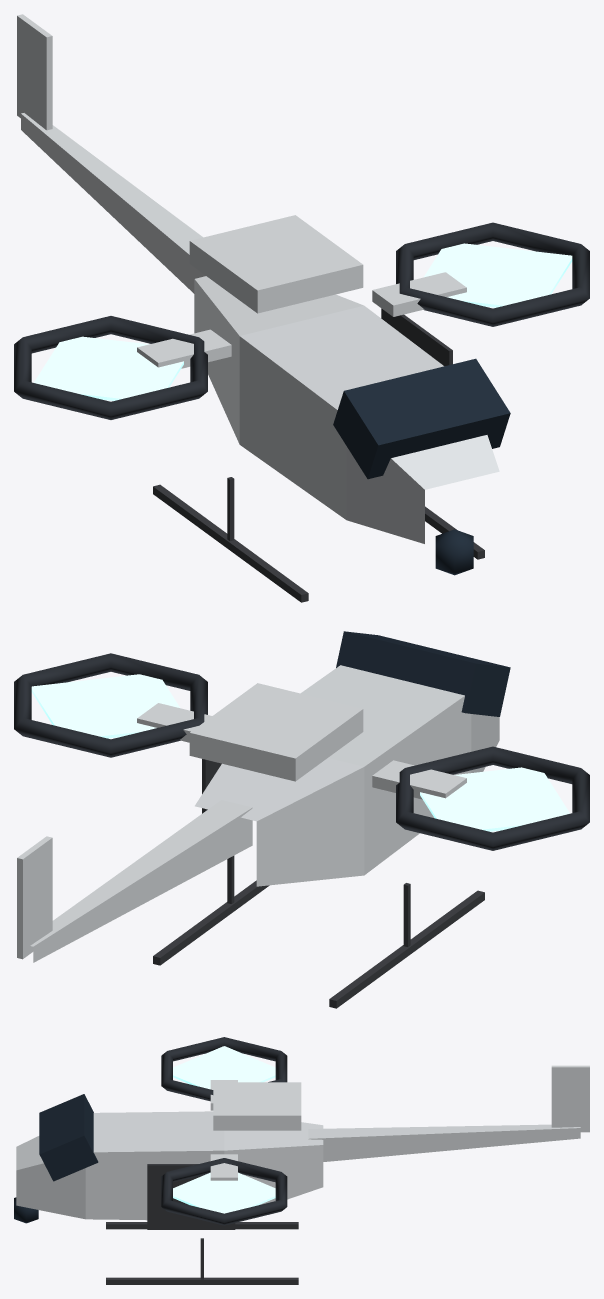
Rendered from veh_air_heli_transport_a09_lod2.glb.
The picture shows the model from 3 angles, top to bottom: view 1: azimuth 30°, elevation 25°; view 2: azimuth 150°, elevation 25°; view 3: azimuth 270°, elevation 25°; orthographic projection. The views are drawn at different scales.
Parts seen in each view (by area): view 1: body, rotor_l, rotor_r, door; view 2: body, rotor_l, rotor_r; view 3: body, rotor_l, rotor_r, door.
Boxes of the visible parts, left/top/right/bottom form: body: left=17, top=14, right=510, bottom=602; rotor_l: left=396, top=222, right=589, bottom=326; rotor_r: left=14, top=316, right=207, bottom=419; door: left=381, top=308, right=452, bottom=366; body: left=17, top=631, right=510, bottom=1008; rotor_l: left=14, top=653, right=207, bottom=757; rotor_r: left=396, top=746, right=589, bottom=850; body: left=14, top=1065, right=589, bottom=1284; rotor_l: left=161, top=1158, right=287, bottom=1225; rotor_r: left=161, top=1037, right=287, bottom=1101; door: left=147, top=1164, right=235, bottom=1229.
Bounding box in the file's own units: 7.84 × 3.8 × 10.48.
